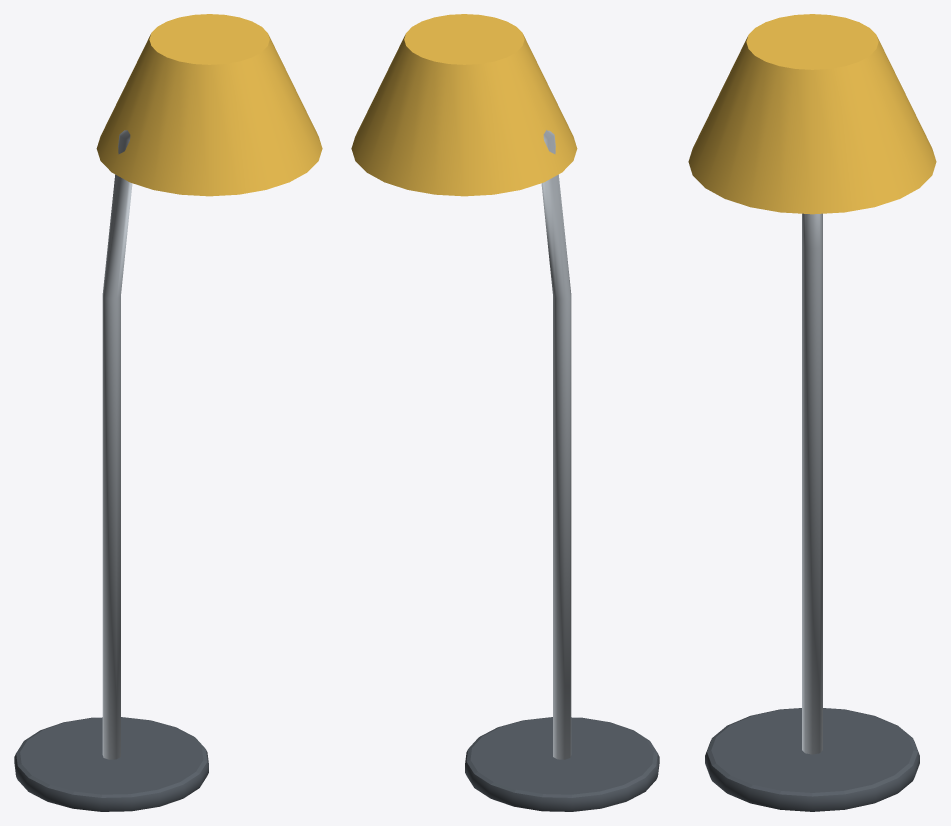
File: luminaria.glb
The picture shows the model from 3 angles, left to right: view 1: azimuth 30°, elevation 25°; view 2: azimuth 150°, elevation 25°; view 3: azimuth 270°, elevation 25°; orthographic projection. The views are drawn at different scales.
Parts seen in each view (by area): view 1: luminaria; view 2: luminaria; view 3: luminaria.
Boxes of the visible parts, x1,y1,x2,y2 form: luminaria: (14, 14, 322, 811); luminaria: (351, 14, 659, 811); luminaria: (688, 14, 936, 811).
Bounding box in the file's own units: 0.86 × 2.08 × 0.6.
